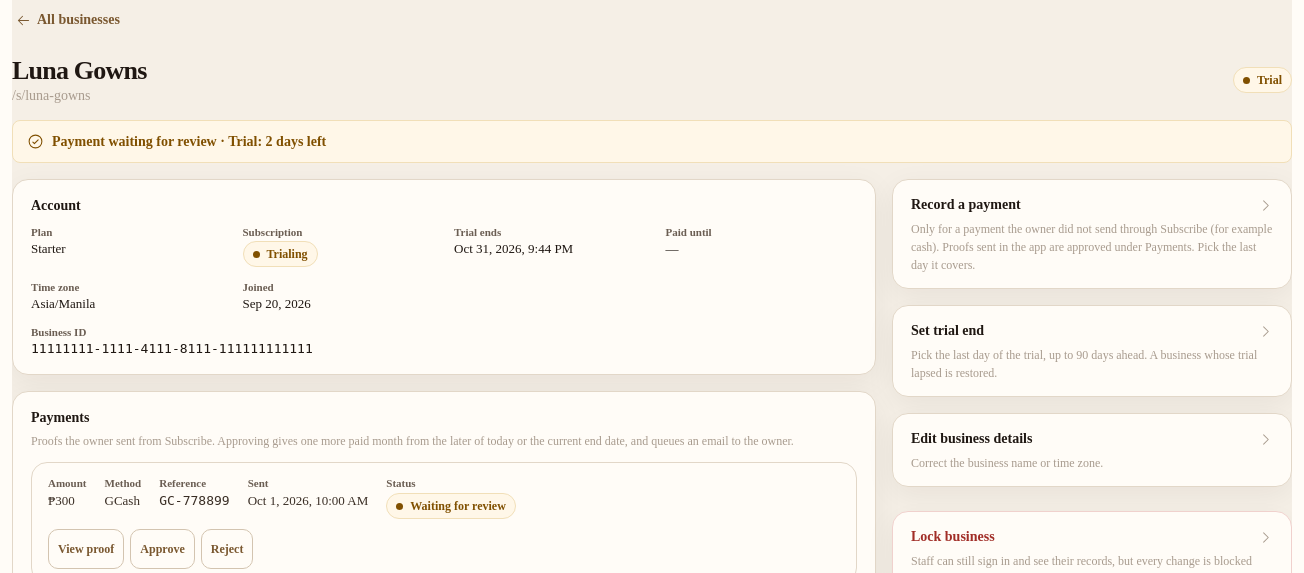
it: ClientsPanel › approves a waiting payment once for a double click, with the reason and an Idempotency-Key
Click the button "Approve": (163, 549) [130,529,195,569]
(page scrolled)
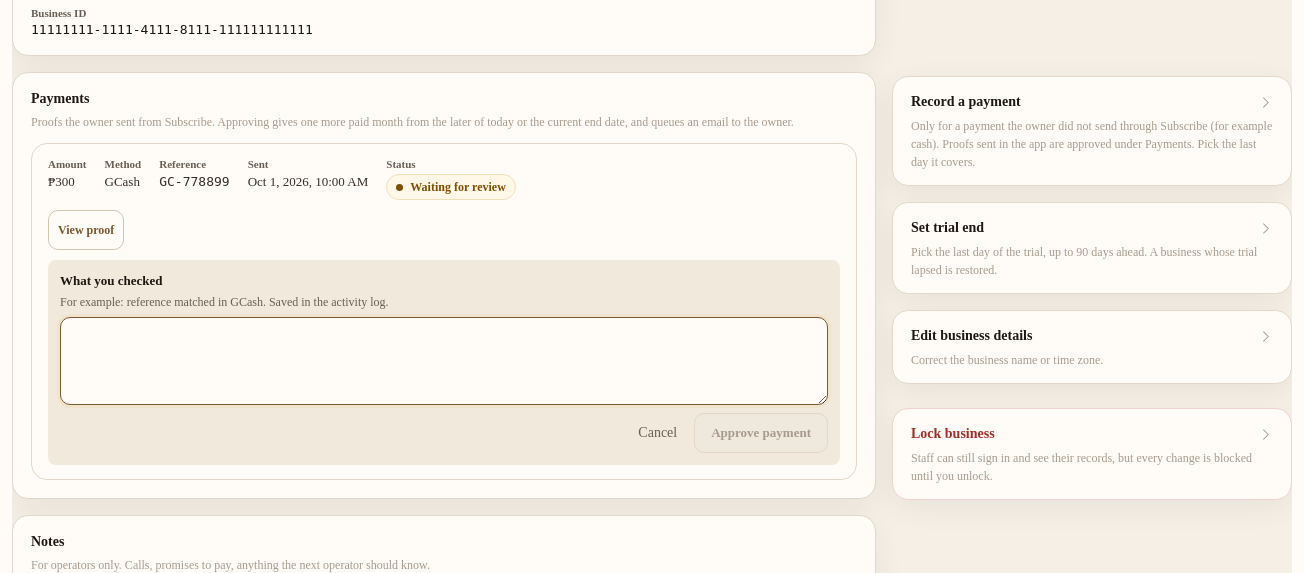
In the text box labelled "What you checked": (444, 361) [60,317,828,405], type "Reference matched in GCash"
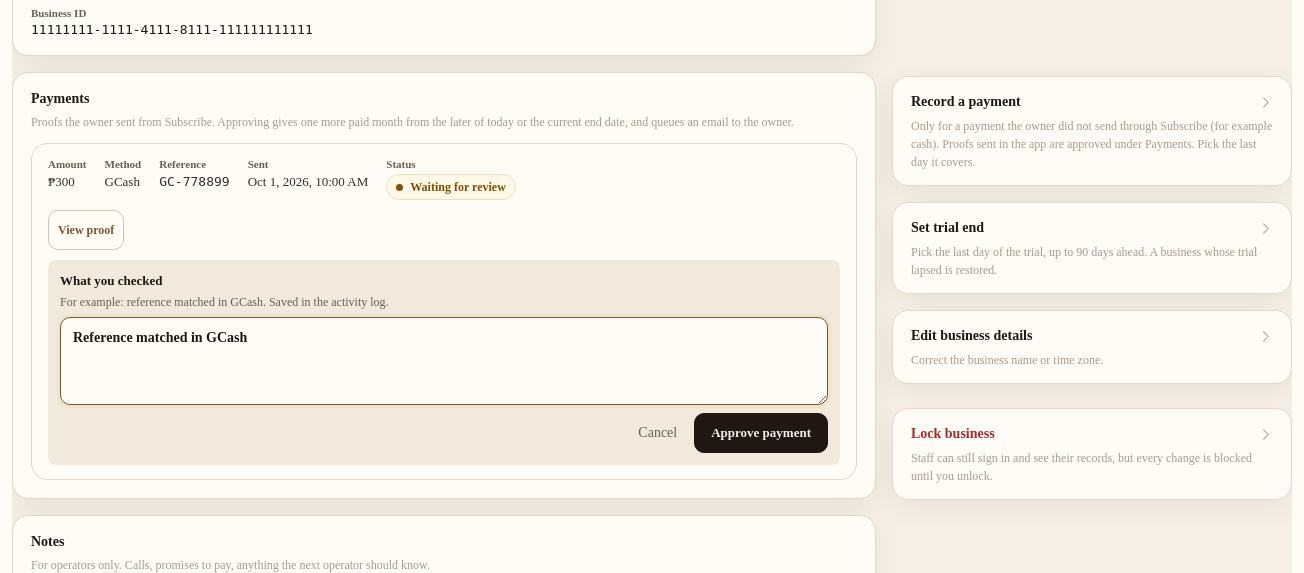
Click the button "Approve payment": (761, 433) [694,413,828,453]
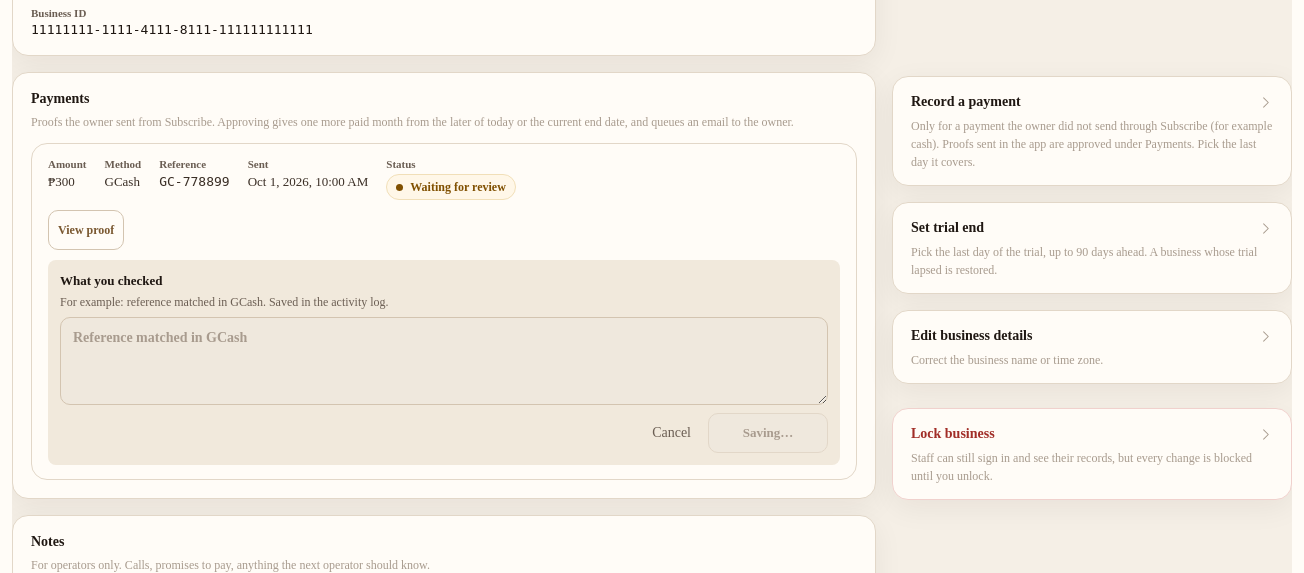
Click the button named "Approve payment": (768, 433) [708,413,828,453]
(page scrolled)
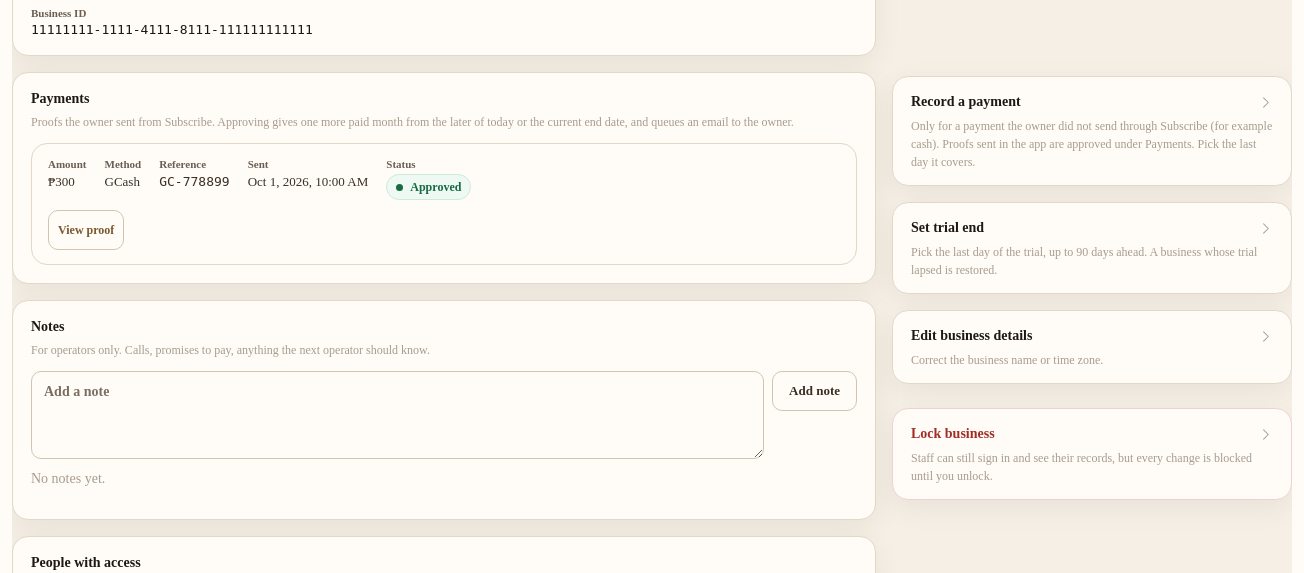
Expected: the text "Approved" is shown, [386,174,471,200]
